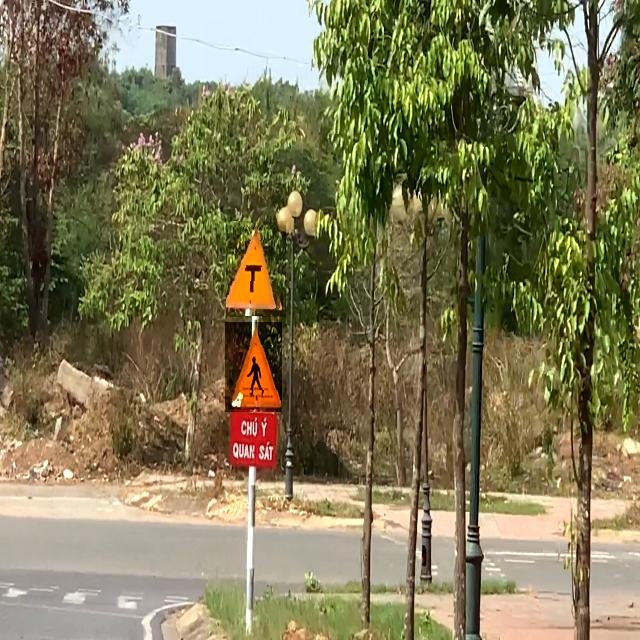bien_nguy_hiem: (226, 222, 286, 318), (225, 322, 282, 412)
